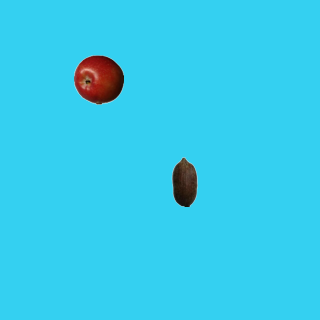Apple Braeburn: (73, 54, 123, 104)
Nut Pecan: (159, 156, 209, 206)
